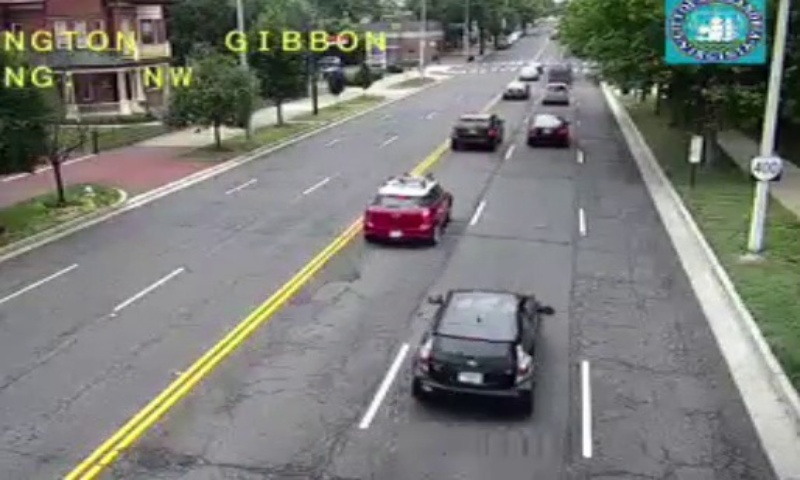car: (410, 289, 541, 405), (364, 176, 451, 241), (452, 113, 502, 148), (527, 113, 568, 144)
